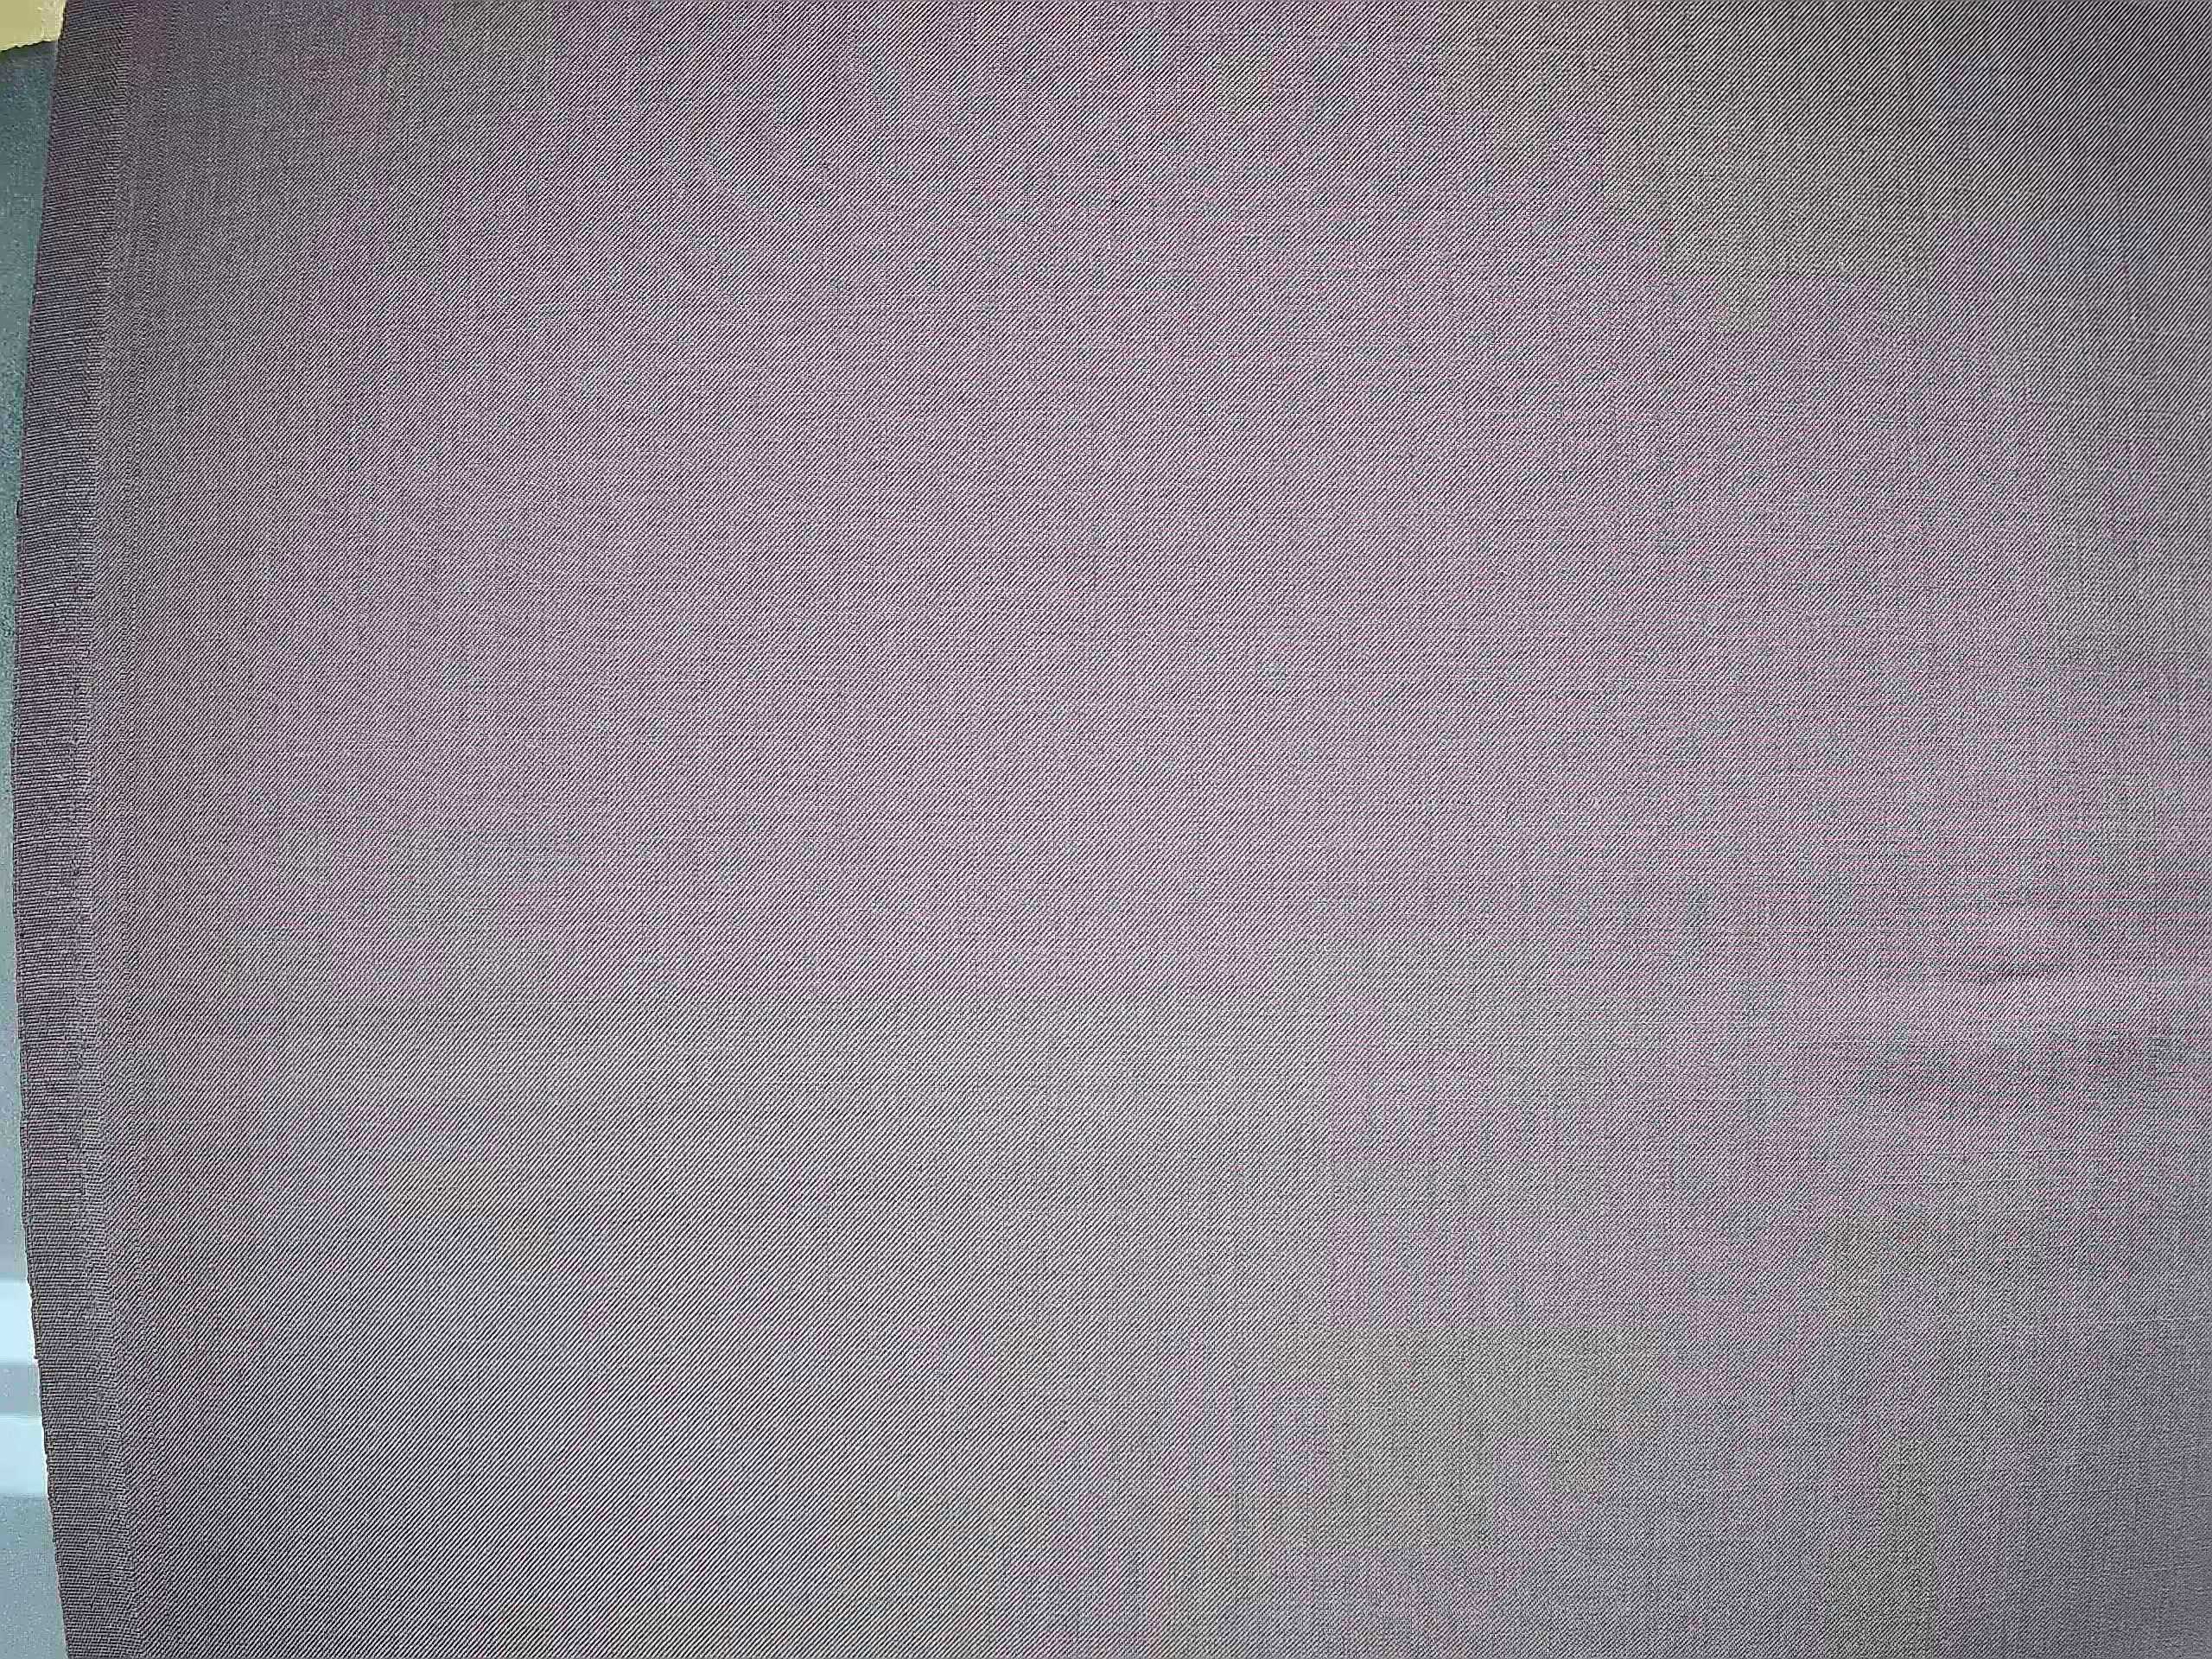lacking-warp: (115, 120, 176, 997)
